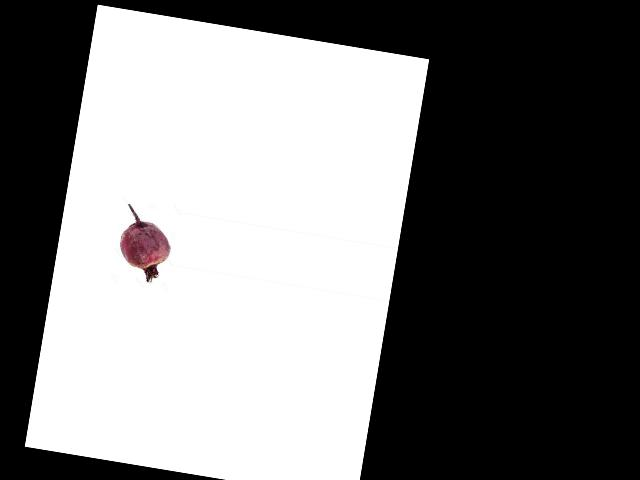beet: (113, 203, 176, 285)
